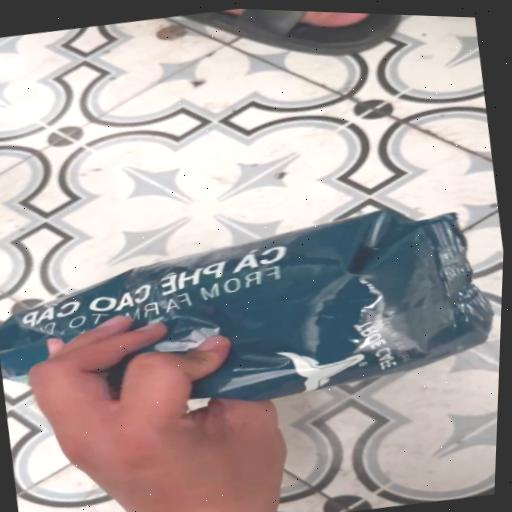cafe_hat: (0, 210, 492, 400)
